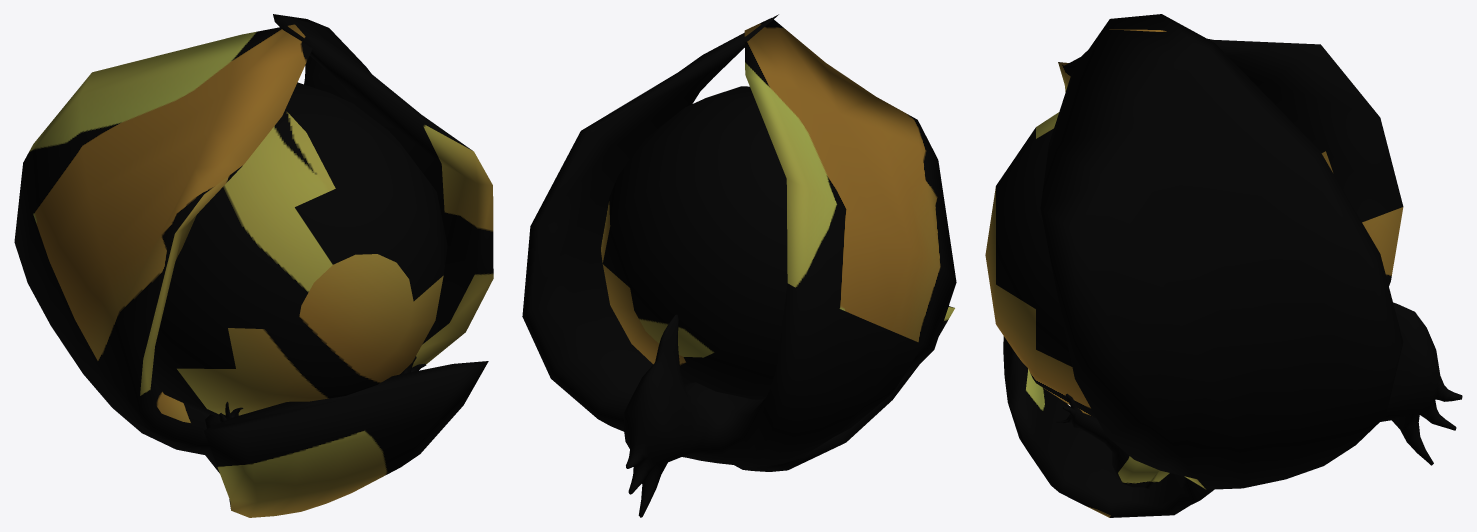
The model's file is RelicBall Garuda.fbx.
3 views of the same model, side by side, from view 1: azimuth 30°, elevation 25°; view 2: azimuth 150°, elevation 25°; view 3: azimuth 270°, elevation 25° (orthographic). The views are drawn at different scales.
Visible parts, largest first — view 1: Relic Garuda; view 2: Relic Garuda; view 3: Relic Garuda.
Part boxes in pixels (x1,y1,x2,y2): Relic Garuda: (14, 14, 493, 517); Relic Garuda: (522, 14, 956, 517); Relic Garuda: (985, 14, 1462, 517).
Bounding box in the file's own units: 36.83 × 47.15 × 41.58.
